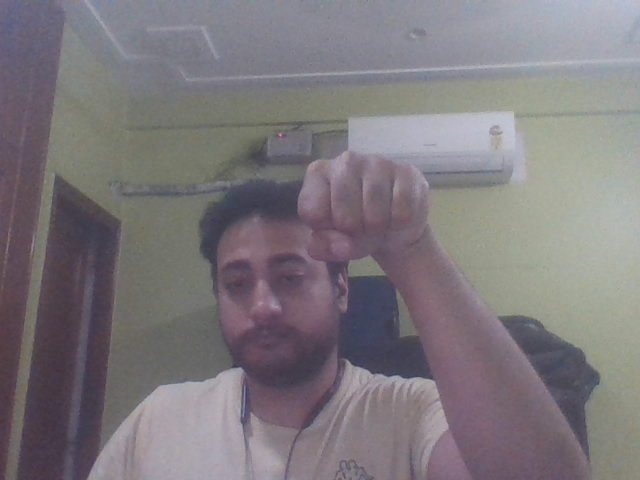Yes: (276, 135, 461, 281)
